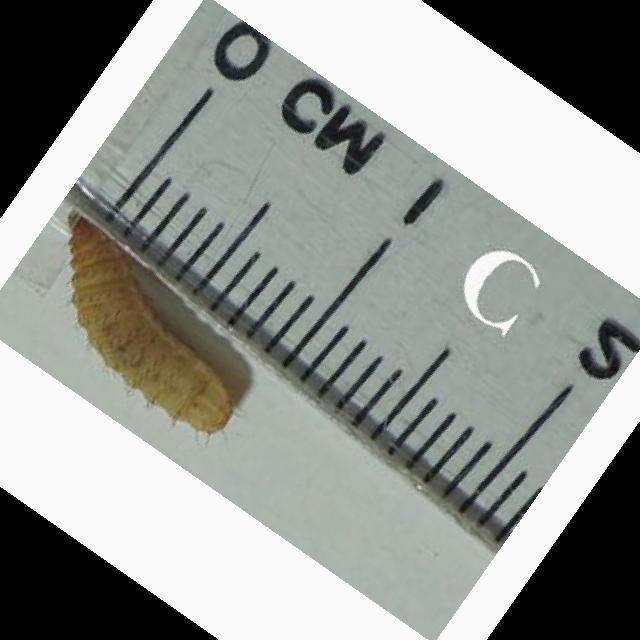Maggot: (60, 209, 232, 439)
